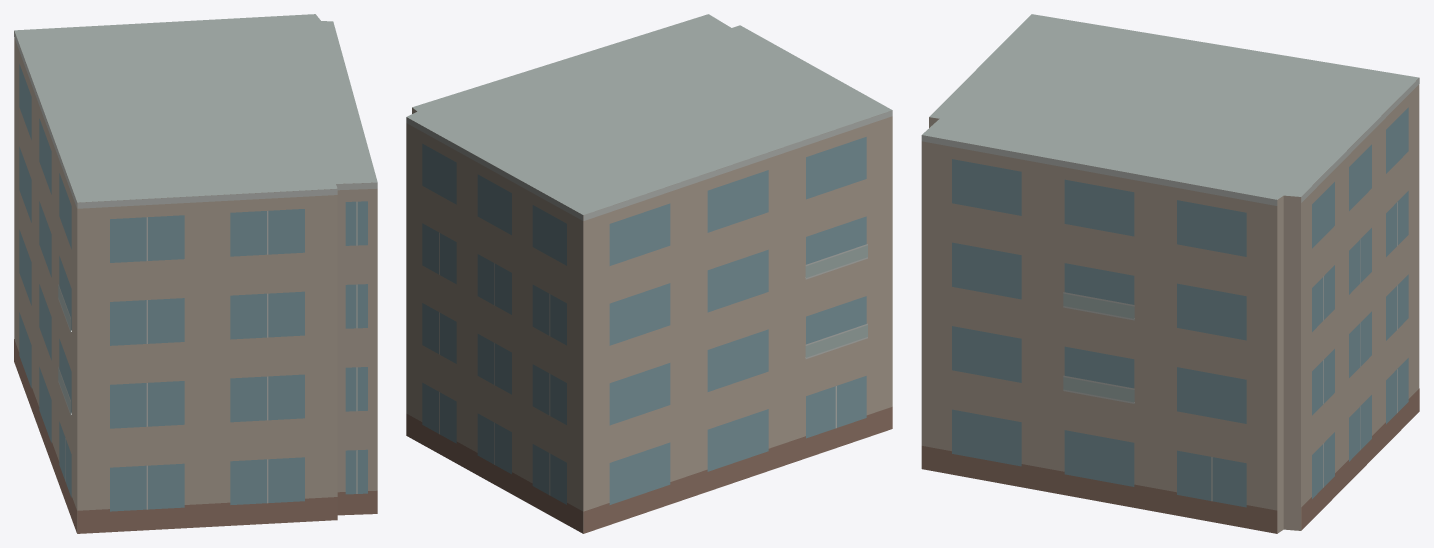
The model's file is survey-upis-32779604.glb.
3 renders of one model, left to right at view 1: azimuth 30°, elevation 25°; view 2: azimuth 150°, elevation 25°; view 3: azimuth 270°, elevation 25°, orthographic. The views are drawn at different scales.
Visible parts, largest first — view 1: survey-upis-32779604.tmp; view 2: survey-upis-32779604.tmp; view 3: survey-upis-32779604.tmp.
Boxes of the visible parts, box(x1,y1,x2,y2) form: survey-upis-32779604.tmp: box(14, 14, 377, 533); survey-upis-32779604.tmp: box(406, 14, 892, 533); survey-upis-32779604.tmp: box(921, 14, 1419, 533).
Bounding box in the file's own units: 15.46 × 12.95 × 17.5.
